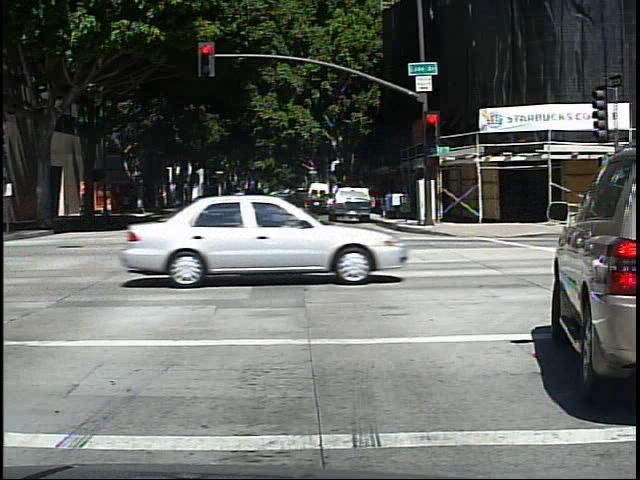person: (74, 186, 90, 220)
